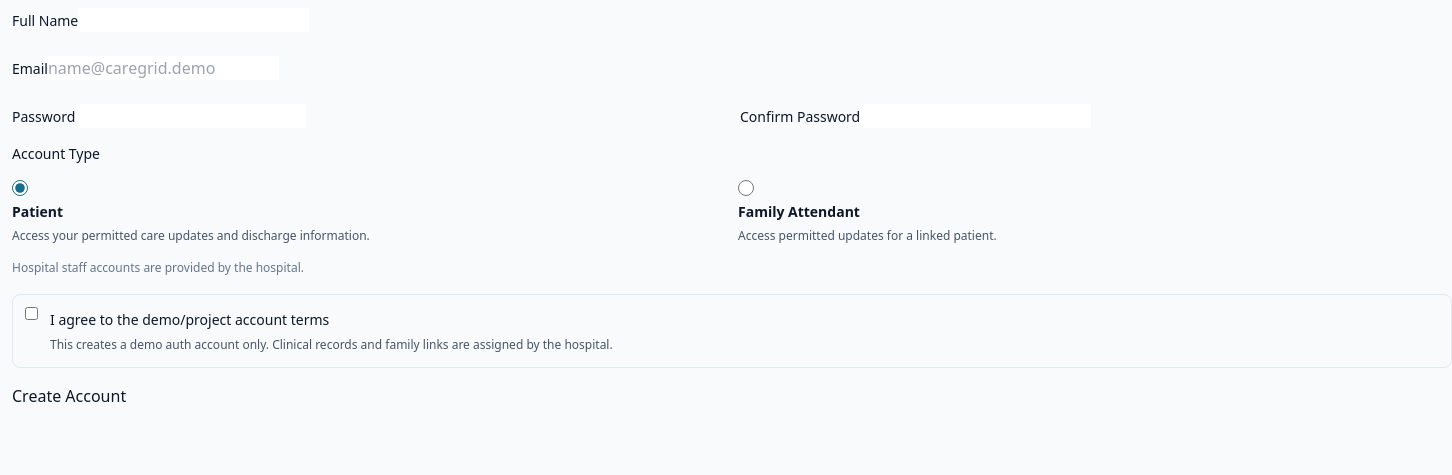
Test case: CareGrid public registration › validates email and password confirmation before submitting
The width and height of the screenshot is (1452, 475).
In the field labelled "Full Name": (194, 20) left=78, top=8, right=309, bottom=32, type "New Patient"
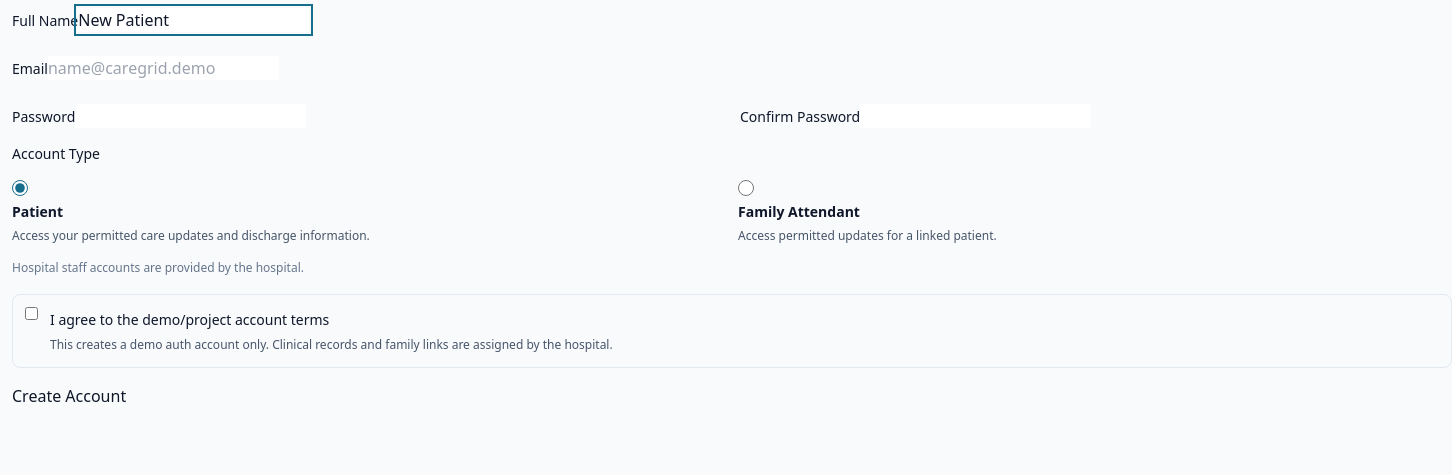
In the field labelled "Email": (164, 68) left=48, top=56, right=279, bottom=80, type "not-an-email"
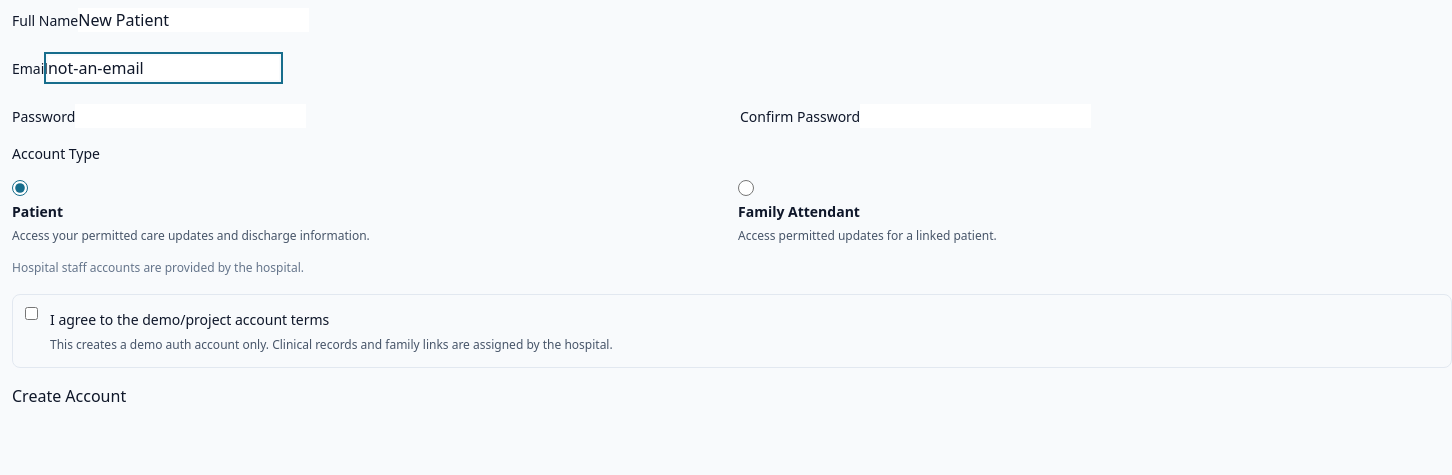
In the password field labelled "Password": (191, 116) left=75, top=104, right=306, bottom=128, type "CareGrid123!"
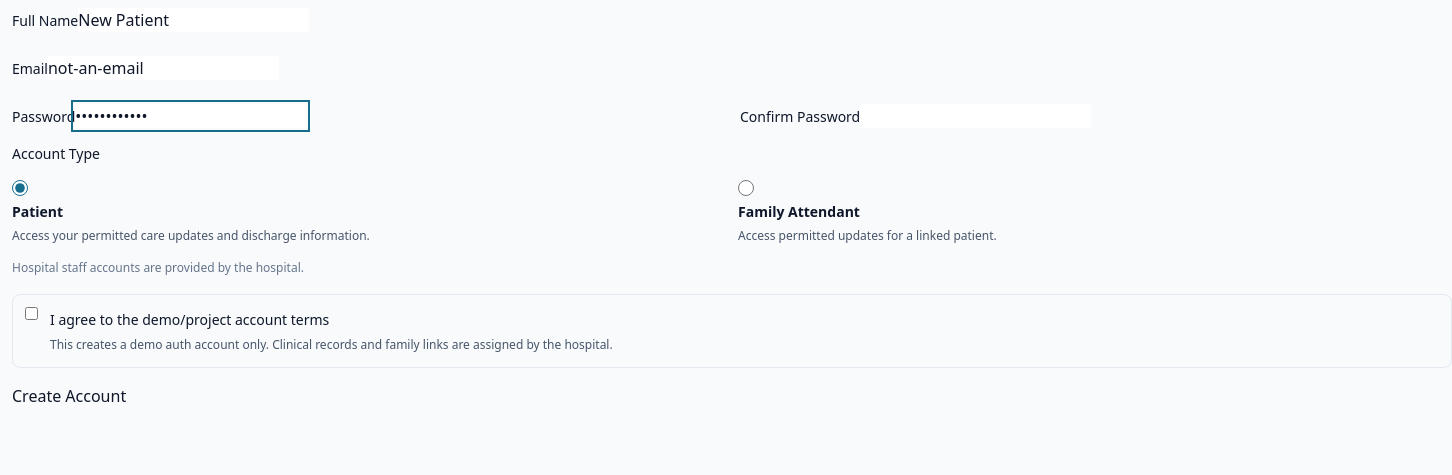
In the password field labelled "Confirm Password": (976, 116) left=860, top=104, right=1091, bottom=128, type "Different123!"
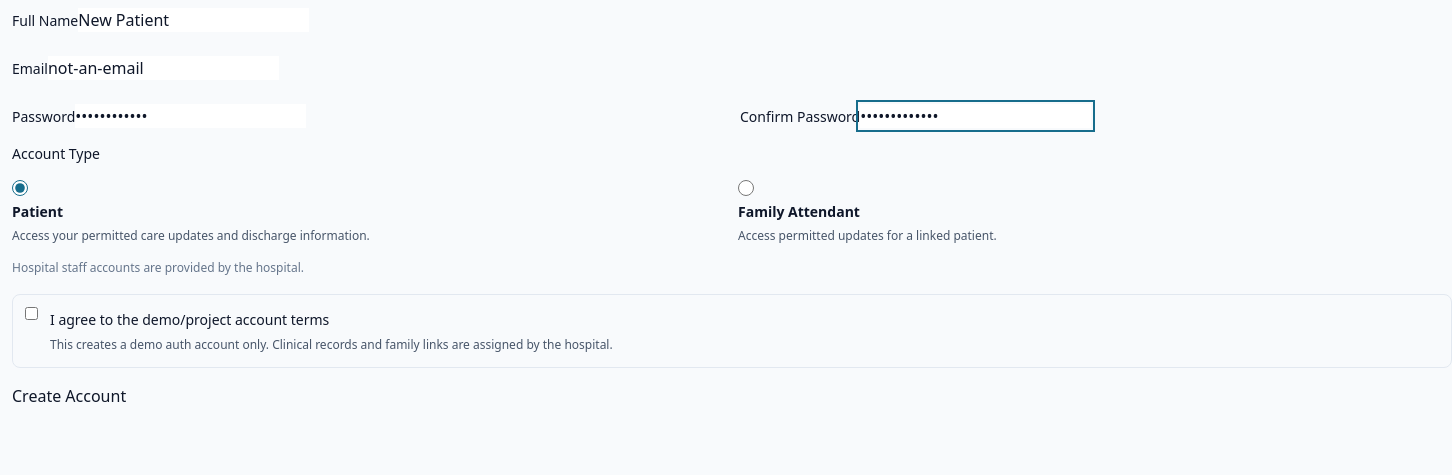
Click the checkbox labelled "I agree to the demo/project account terms": click(32, 314) left=25, top=307, right=38, bottom=320
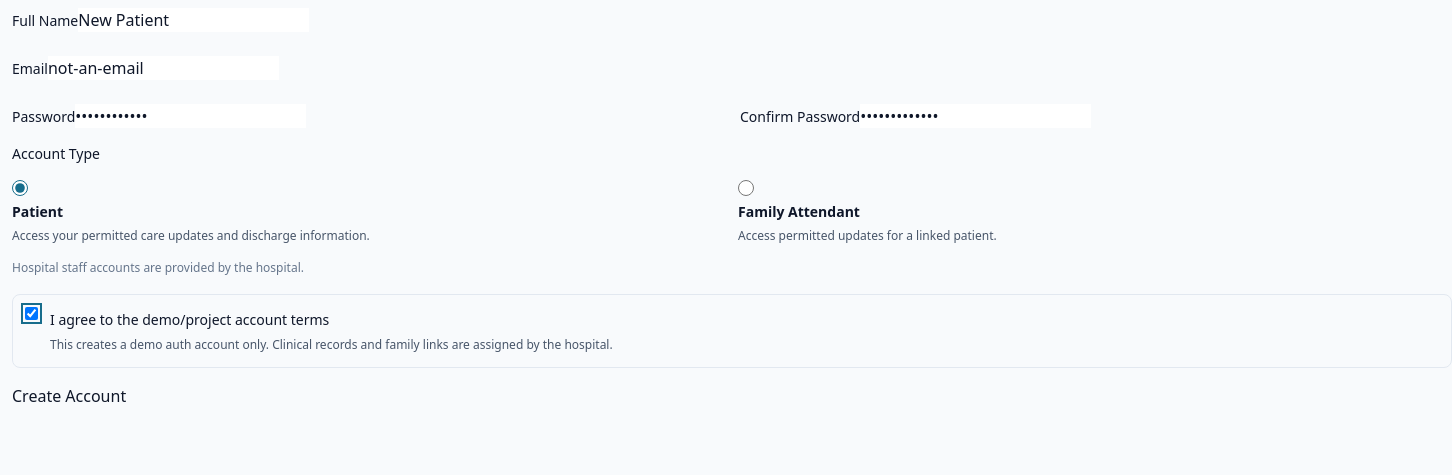
Click the button "Create Account": click(69, 396) left=12, top=384, right=126, bottom=408
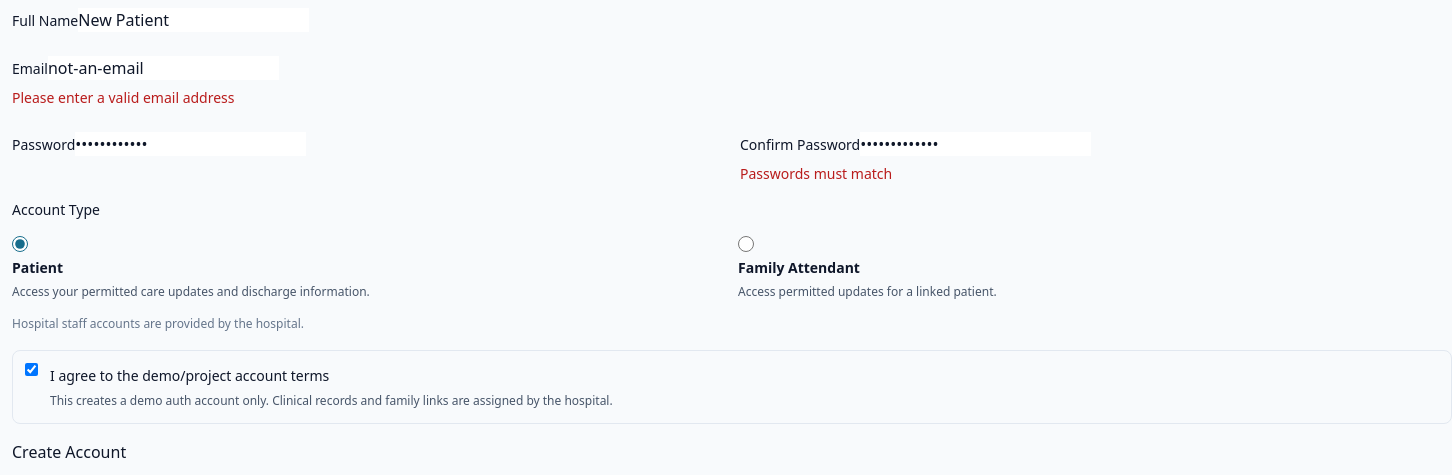
expect the text "Please enter a valid email address" is shown: met, box left=12, top=88, right=234, bottom=107
expect the text "Passwords must match" is shown: met, box left=740, top=164, right=892, bottom=183
